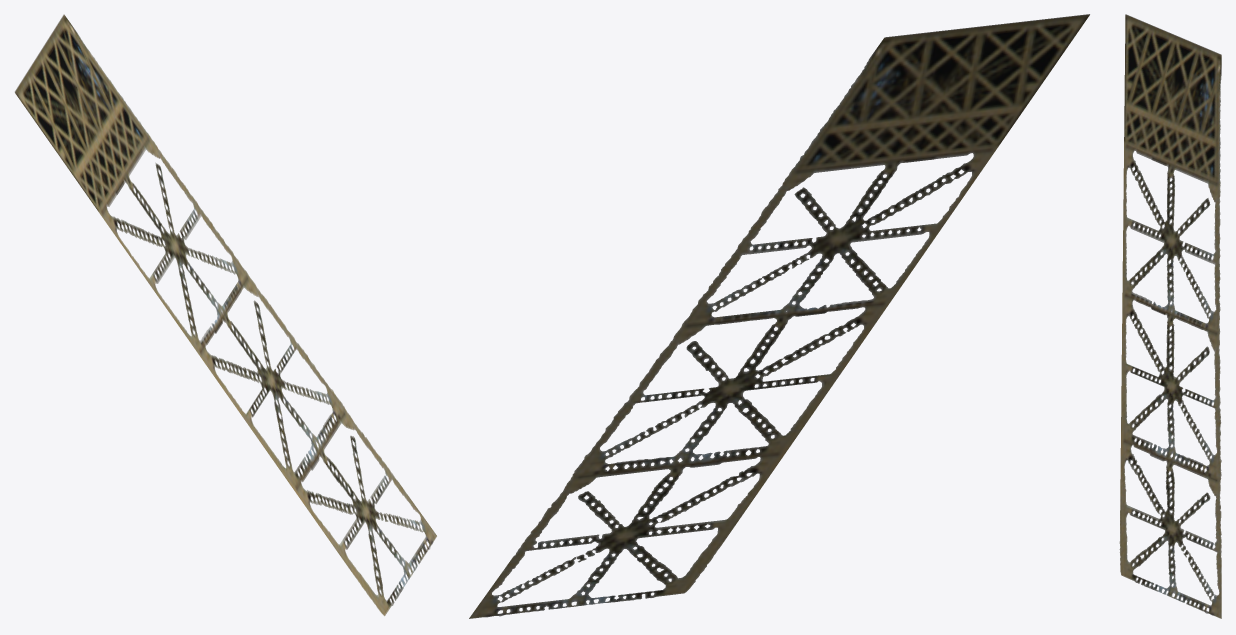
Rendered from 埃菲尔铁塔3.dae.
3 views of the same model, side by side, from view 1: azimuth 30°, elevation 25°; view 2: azimuth 150°, elevation 25°; view 3: azimuth 270°, elevation 25° (orthographic). The views are drawn at different scales.
Visible parts, largest first — view 1: SketchUp; view 2: SketchUp; view 3: SketchUp.
Boxes of the visible parts, box(x1,y1,x2,y2) form: SketchUp: box(14, 14, 436, 616); SketchUp: box(469, 14, 1089, 618); SketchUp: box(1119, 14, 1221, 618).
Size of the model in its own units: 1900 by 481 by 2271.
1 material, 1 textured.
